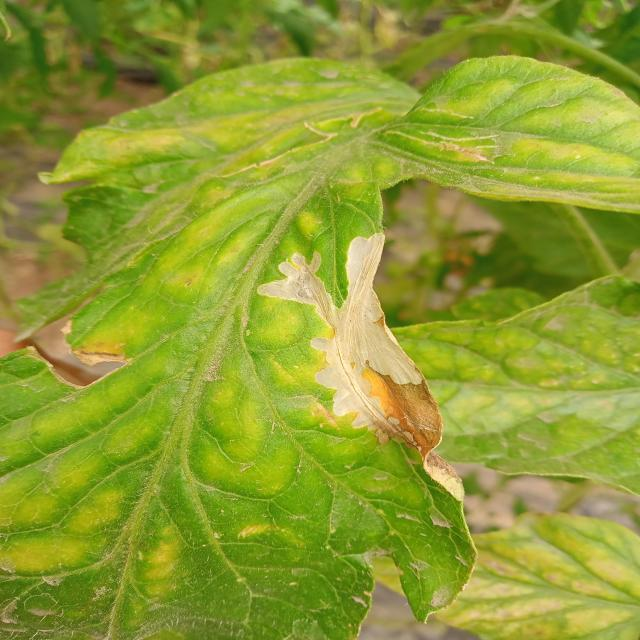Tuta absoluta: (250, 217, 495, 539)
